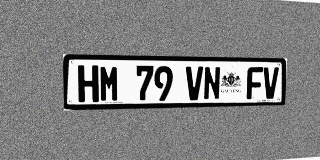7: (135, 66, 154, 101)
9: (154, 66, 173, 101)
F: (246, 67, 263, 99)
H: (78, 65, 99, 102)
M: (99, 65, 119, 102)
N: (203, 66, 221, 100)
V: (185, 66, 203, 100), (263, 67, 279, 99)
